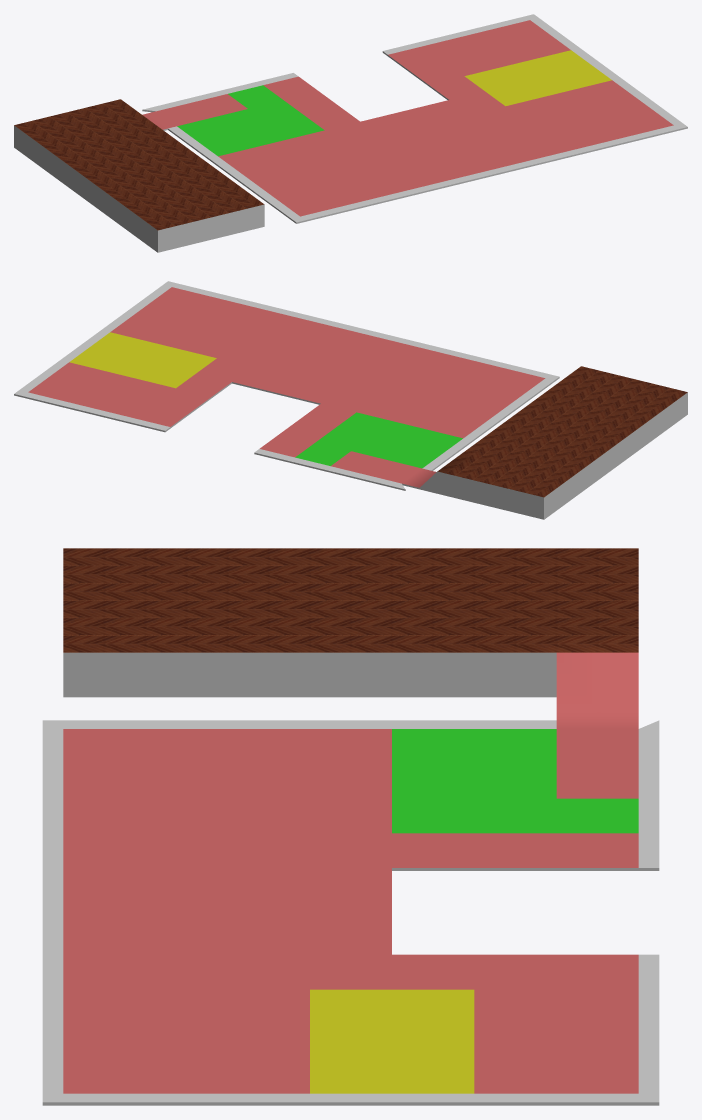
The model's file is sol-ending-uv.FBX.
The picture shows the model from 3 angles, top to bottom: view 1: azimuth 30°, elevation 25°; view 2: azimuth 150°, elevation 25°; view 3: azimuth 270°, elevation 25°; orthographic projection. The views are drawn at different scales.
Parts seen in each view (by area): view 1: sol; view 2: sol; view 3: sol.
Boxes of the visible parts, x1,y1,x2,y2 form: sol: (14,14,687,252); sol: (14,281,687,519); sol: (42,548,659,1105).
Size of the model in its own units: 1161 by 47.22 by 591.
